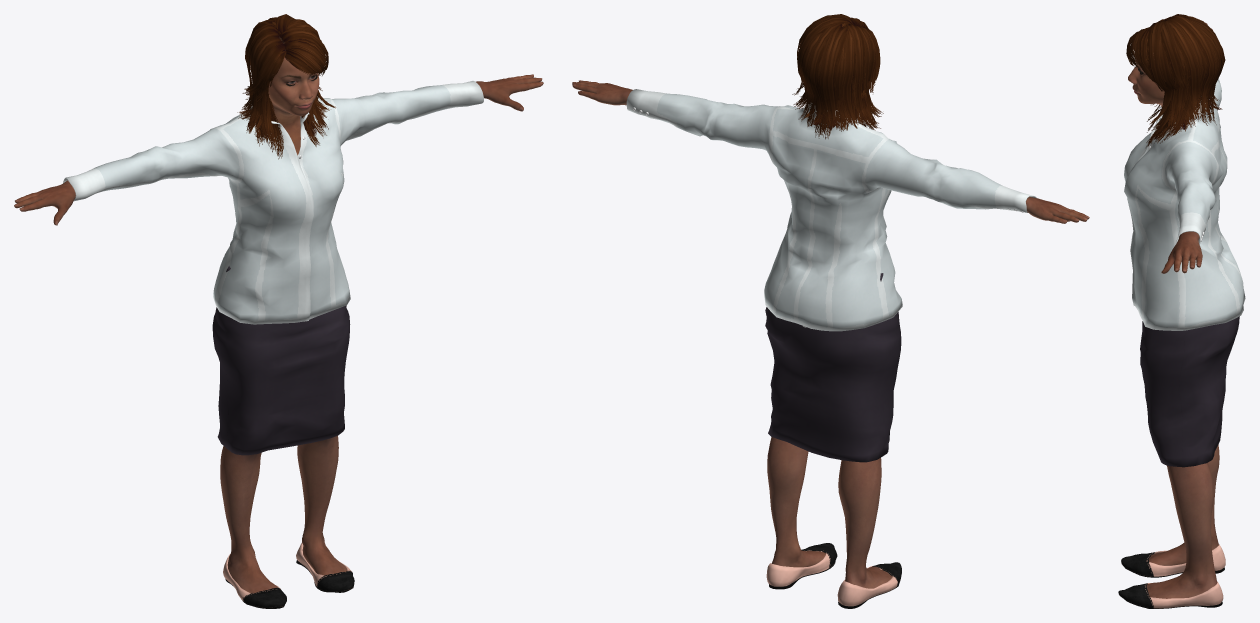
Rendered from Madison.obj.
3 renders of one model, left to right at view 1: azimuth 30°, elevation 25°; view 2: azimuth 150°, elevation 25°; view 3: azimuth 270°, elevation 25°, orthographic.
Visible parts, largest first — view 1: Tops, Bottoms, Body, Hair, Shoes; view 2: Tops, Bottoms, Body, Hair, Shoes; view 3: Tops, Bottoms, Hair, Body, Shoes.
Part boxes in pixels (x1,y1,x2,y2): Tops: (63, 81, 483, 324); Bottoms: (212, 266, 350, 455); Body: (14, 36, 543, 593); Hair: (237, 14, 335, 159); Shoes: (223, 543, 354, 608); Tops: (626, 89, 1036, 331); Bottoms: (765, 273, 901, 462); Body: (572, 80, 1089, 588); Hair: (792, 14, 883, 139); Shoes: (766, 543, 901, 608); Tops: (1124, 78, 1245, 330); Bottoms: (1140, 316, 1239, 467); Hair: (1126, 14, 1225, 147); Body: (1128, 22, 1219, 598); Shoes: (1118, 544, 1225, 608).
Size of the model in its own units: 163 by 169 by 34.32.
Materials: 5 (5 with a texture image).
